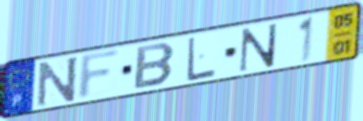1: (296, 13, 319, 65)
B: (132, 41, 178, 91)
F: (75, 46, 125, 103)
L: (186, 35, 217, 83)
N: (35, 54, 80, 109), (237, 22, 280, 74)
